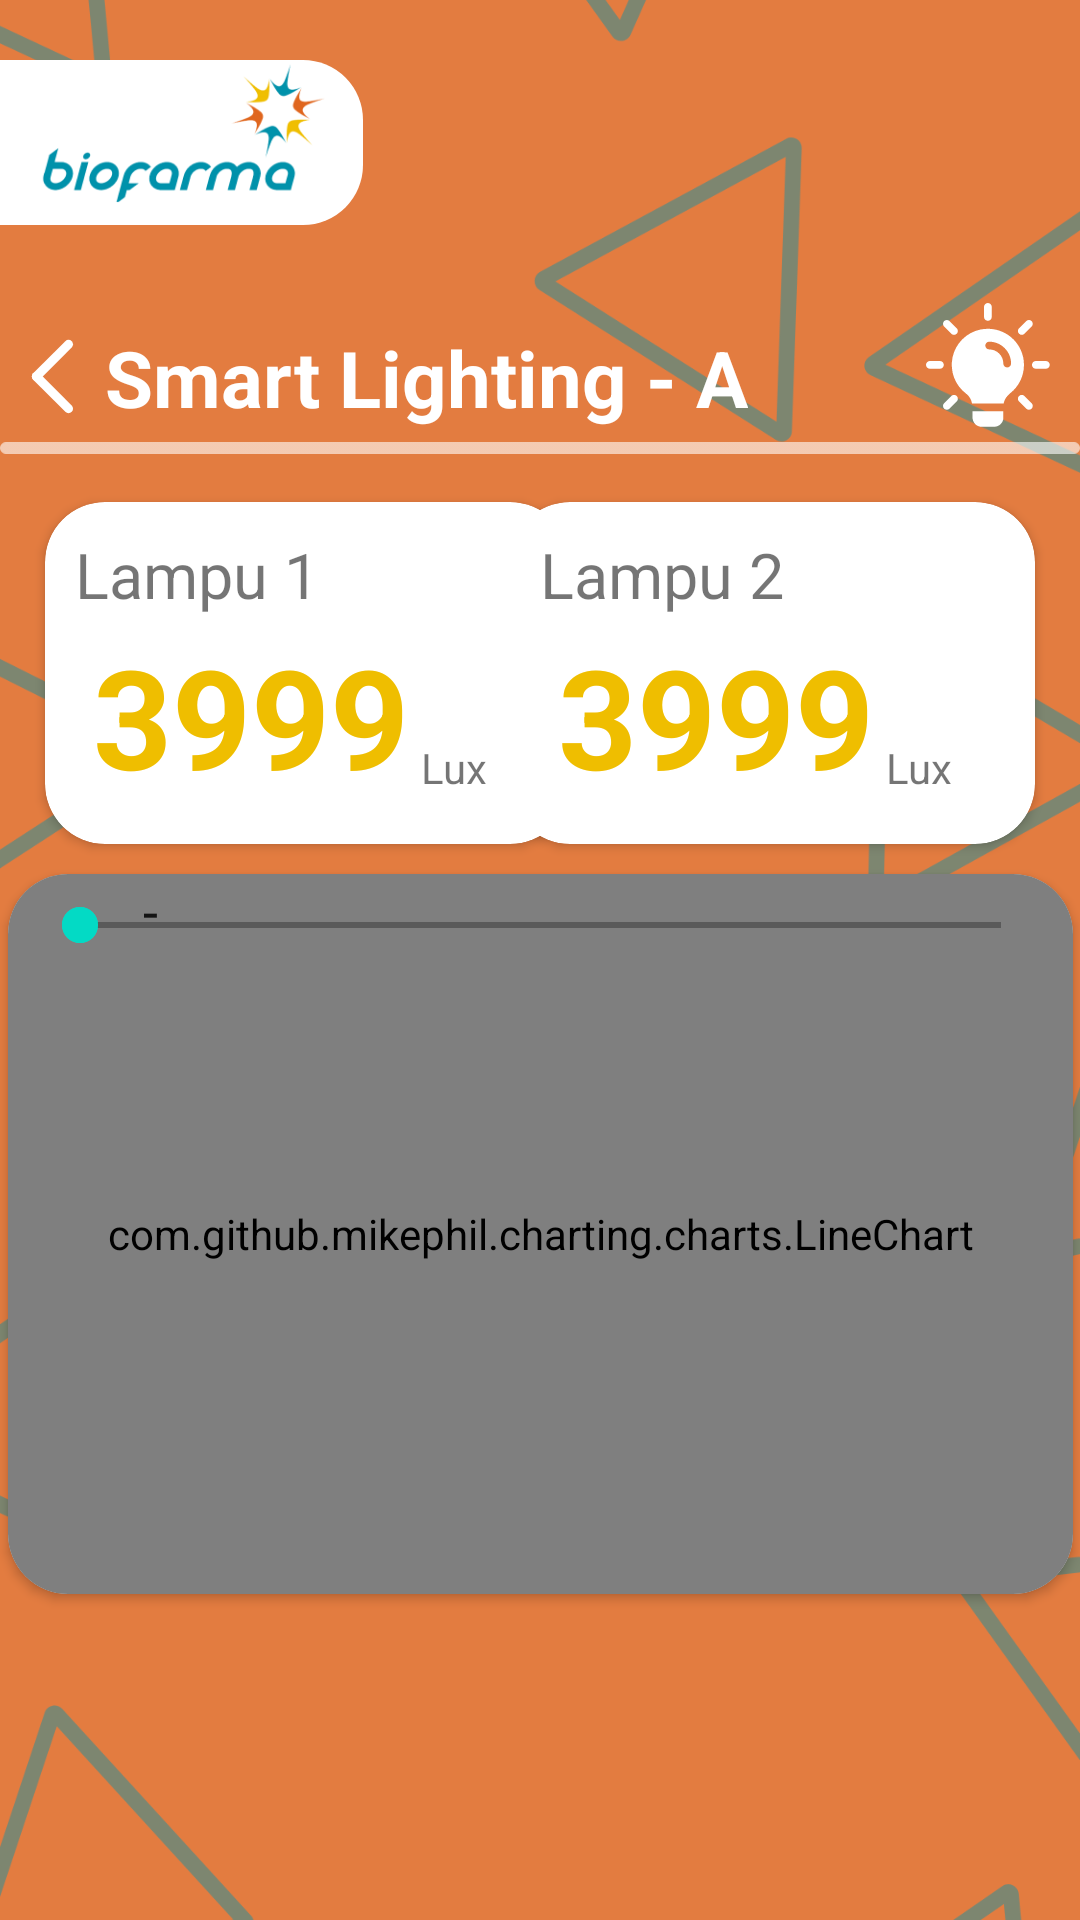

Where to tap for icons on this 1080 x 1920 app screen, as (x=x, y=y):
back: (x=52, y=376)
